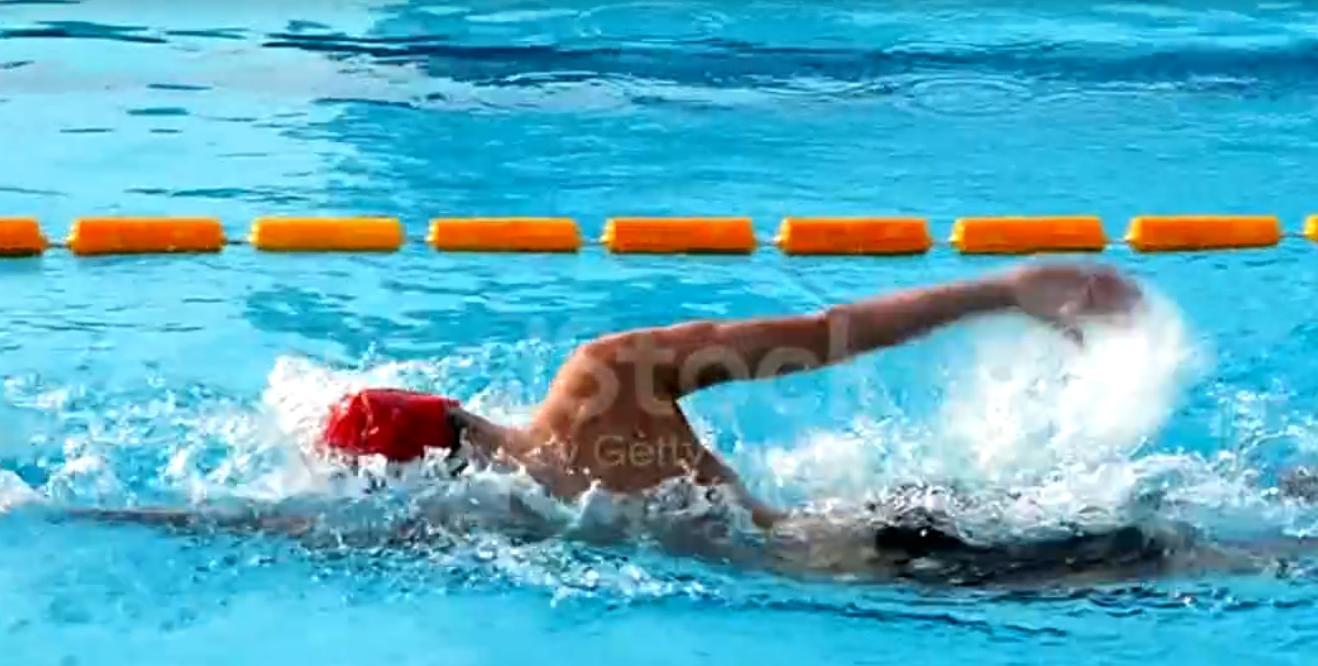Swimming: (185, 243, 1261, 587)
